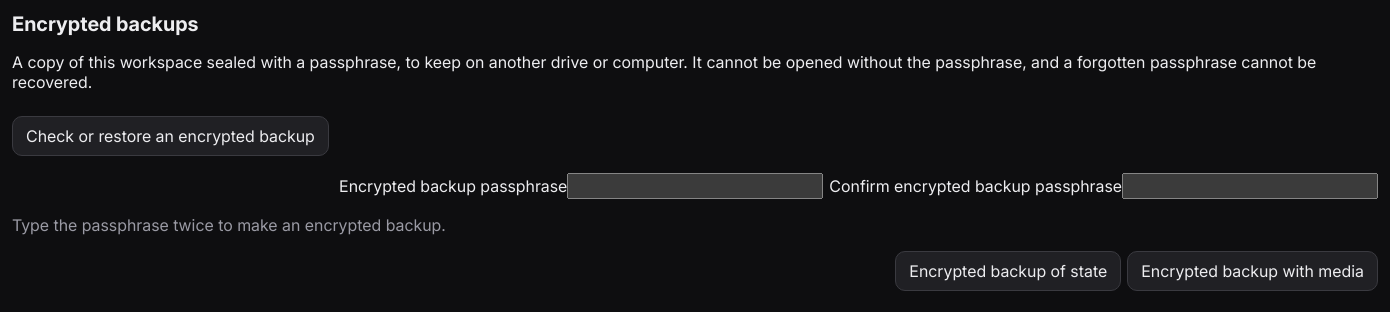
Test case: says why a backup was not made in its own words: backup-storage-insufficient
In the password field labelled "Encrypted backup passphrase": point(695, 186) [567,173,823,199], type "correct horse battery staple"
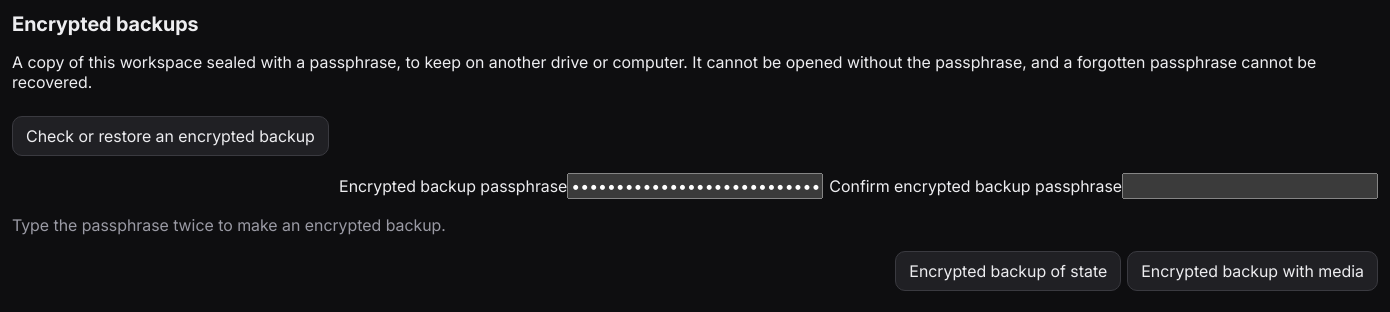
In the password field labelled "Confirm encrypted backup passphrase": point(1250, 186) [1122,173,1378,199], type "correct horse battery staple"
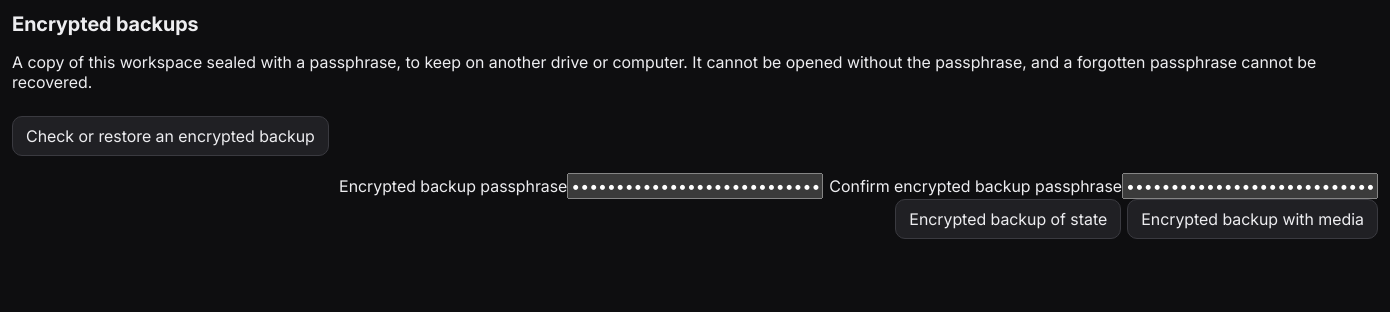
Click the button "Encrypted backup of state": point(1008, 219) [895,199,1121,239]
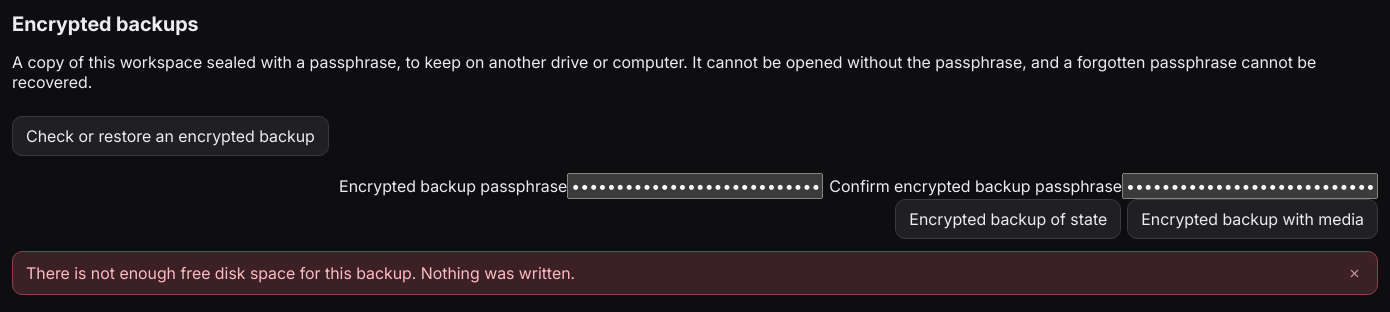
Check: the message reads "There is not enough free disk space for this backup. Nothing was written.", box [26,263,575,283]
